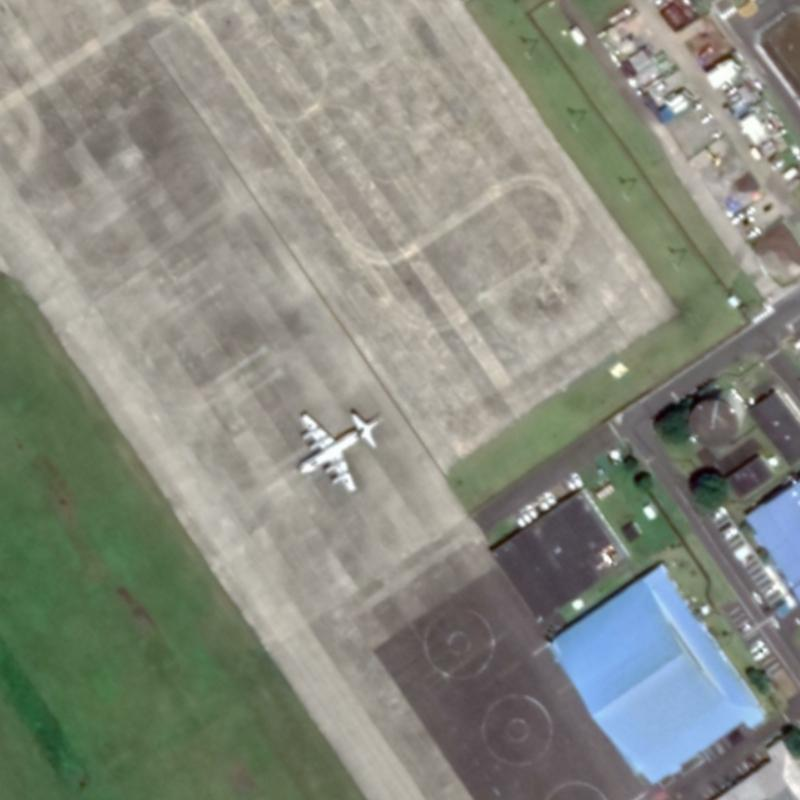A9: (287, 398, 386, 498)
